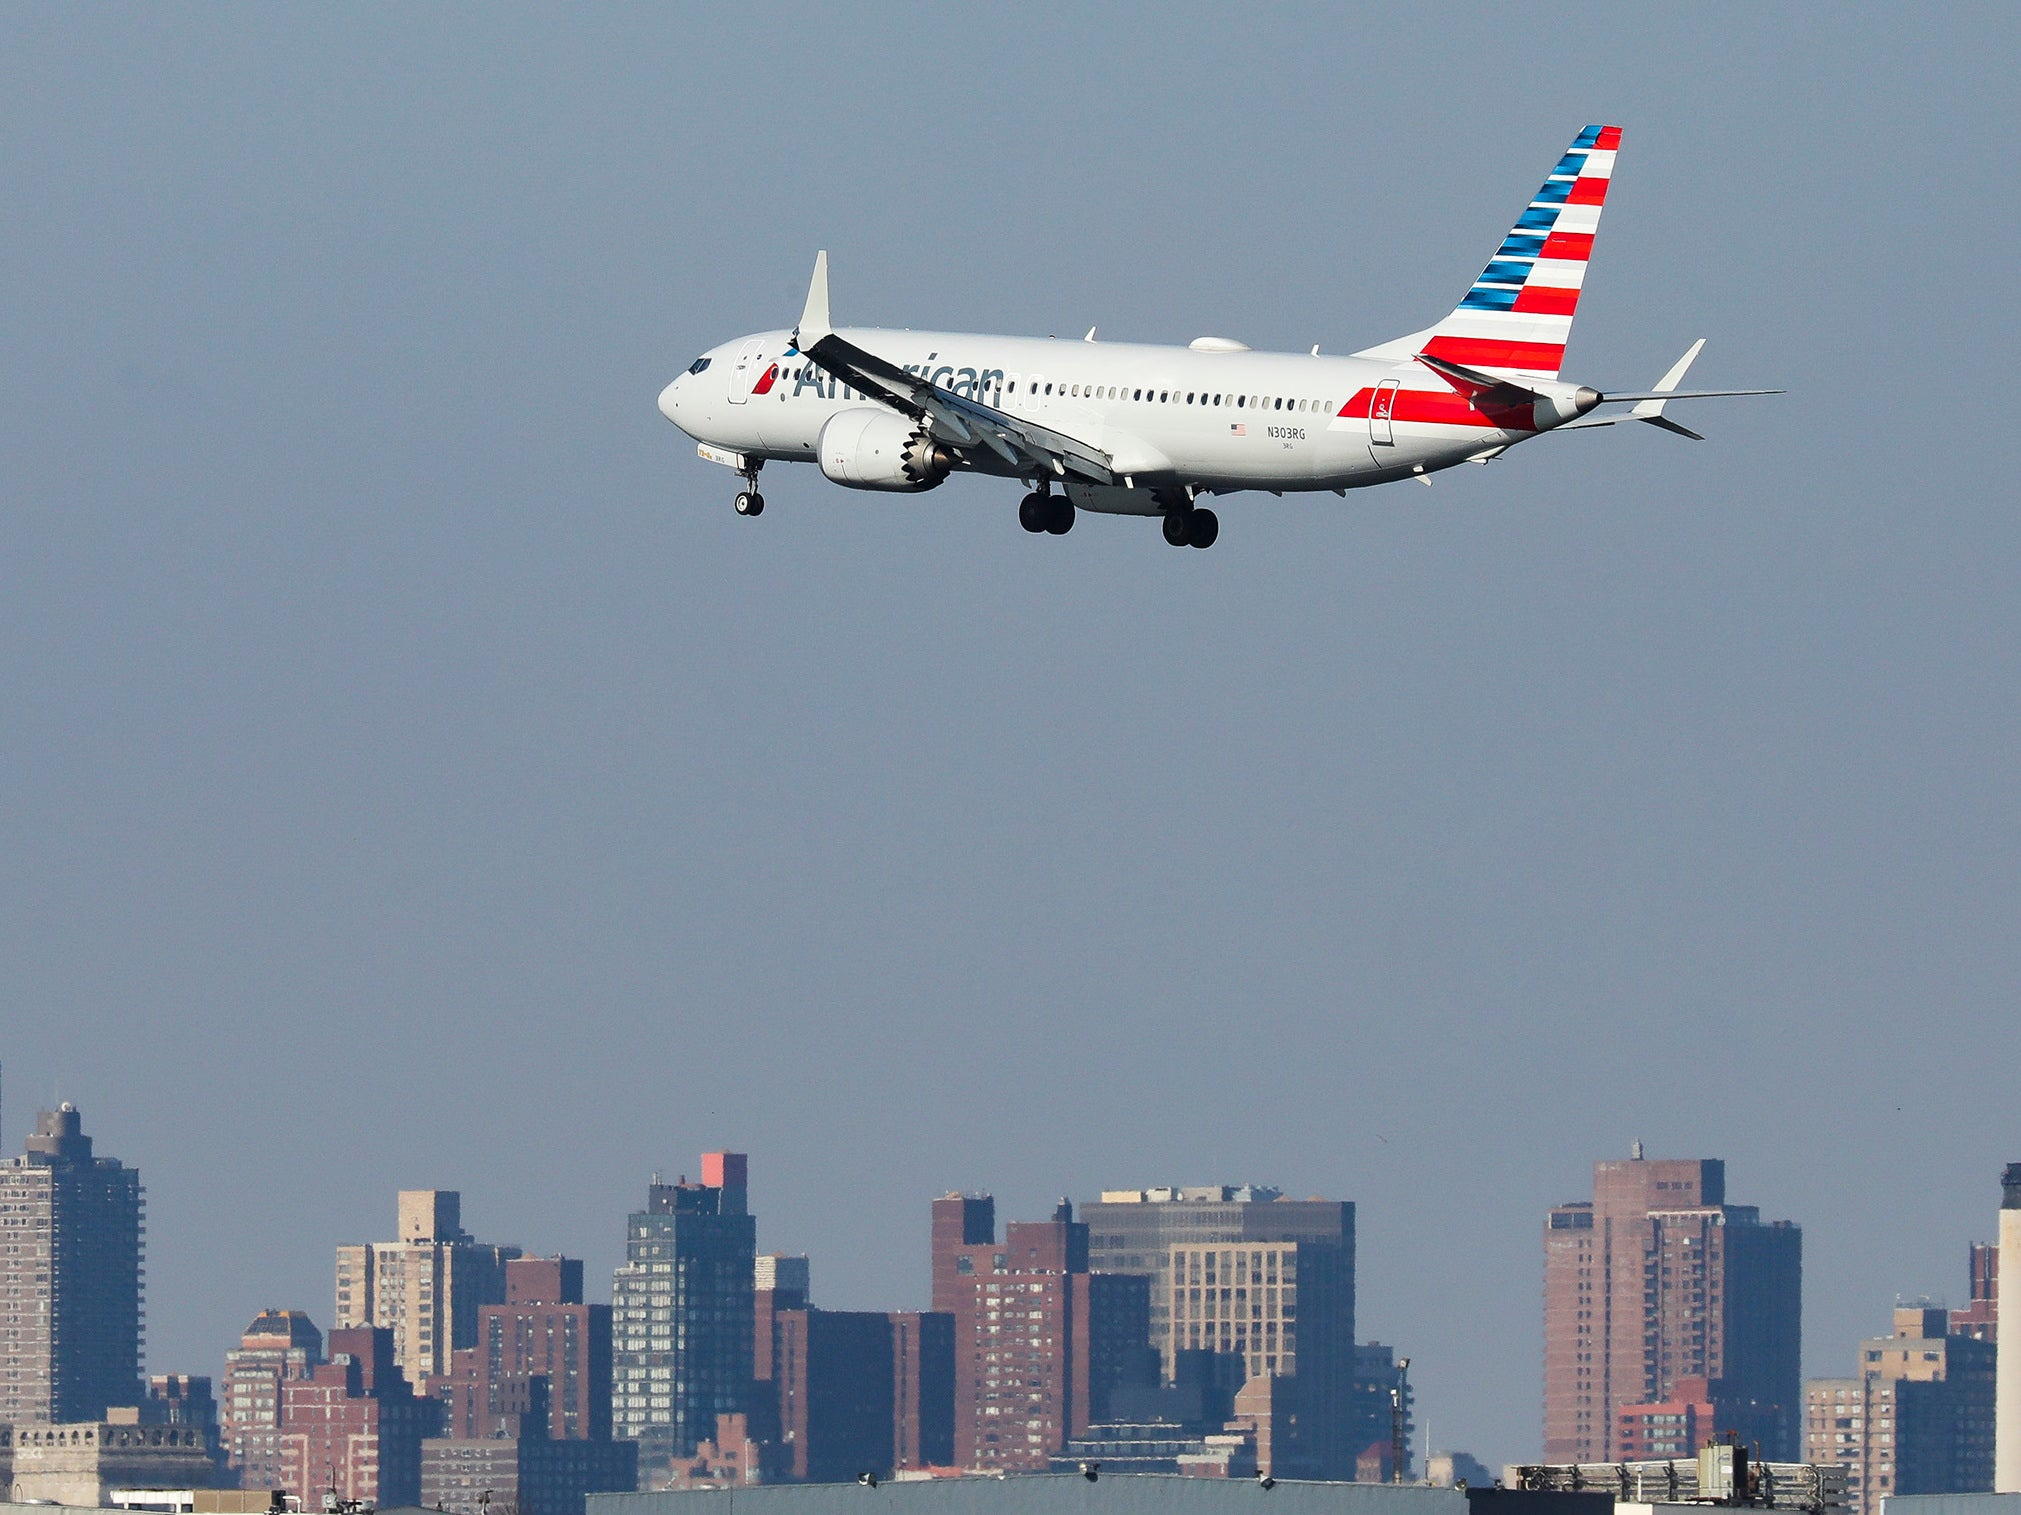aeroplane: (657, 68, 1785, 541)
